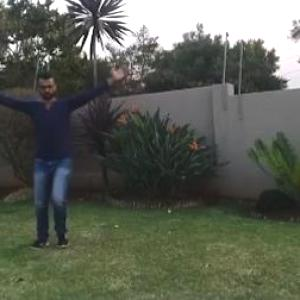takeoff: (2, 65, 134, 249)
